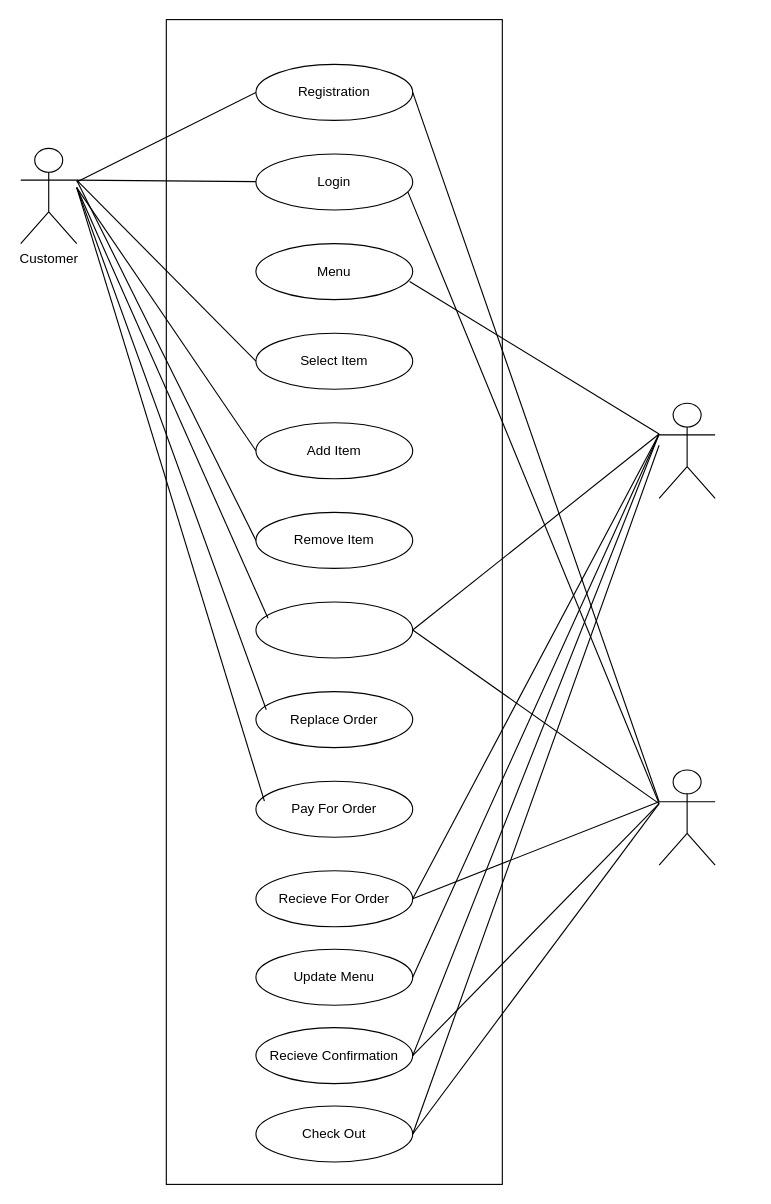
This 771x1204 diagram has some shape labels left out. Here are the shapes that lost their labels. From the top down, the centre of each, then its label:
At [686,450]: "Admin".
At [334,629]: "Review Order".
At [686,817]: "Restaurant Employee".
